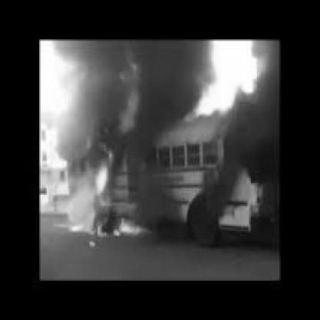Fire: (68, 134, 132, 251)
Smoke: (58, 41, 204, 133), (216, 38, 280, 212)
